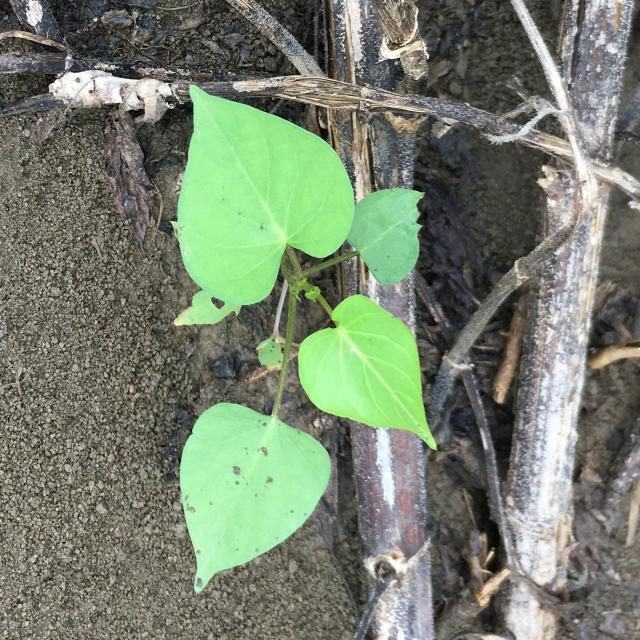MorningGlory: (174, 84, 437, 593)
